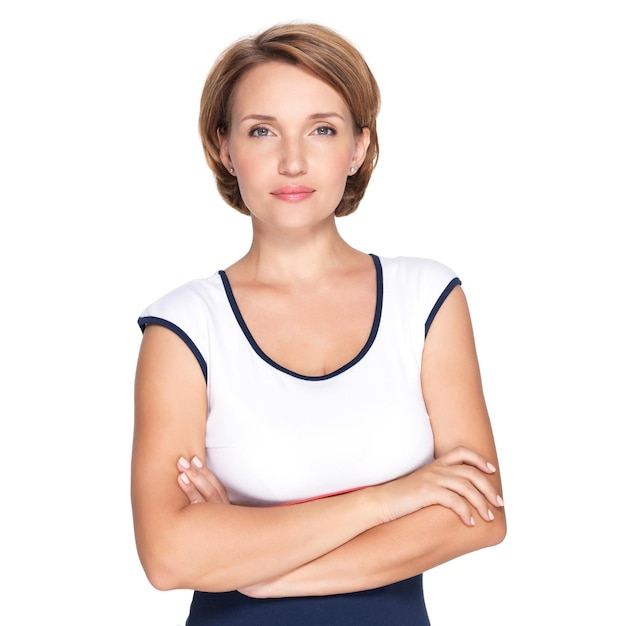young: (185, 22, 378, 248)
